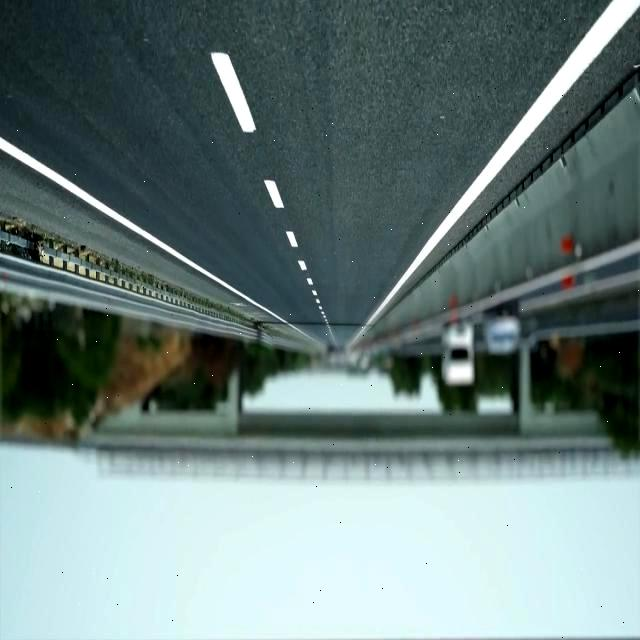lane: (351, 0, 640, 346), (0, 137, 311, 338), (211, 53, 255, 132), (265, 179, 283, 208), (286, 232, 297, 248)
road: (1, 1, 609, 345), (394, 13, 640, 300)
